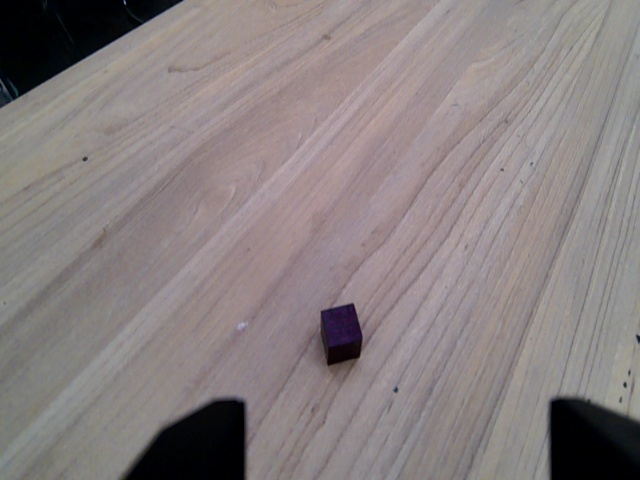brick: (315, 299, 367, 368)
